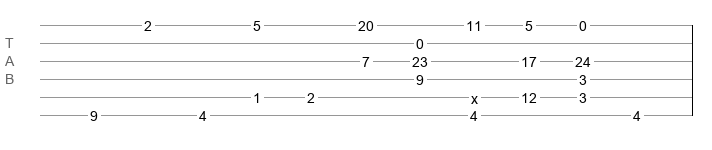0: (416, 36, 424, 46), (579, 18, 587, 28)
1: (253, 90, 261, 100)
11: (466, 18, 482, 28)
12: (521, 90, 537, 100)
17: (521, 54, 537, 64)
2: (144, 18, 152, 28), (307, 90, 315, 100)
20: (358, 18, 374, 28)
23: (412, 54, 428, 64)
24: (575, 54, 591, 64)
3: (579, 72, 587, 82), (579, 90, 587, 100)
4: (199, 108, 207, 118), (470, 108, 478, 118), (633, 108, 641, 118)
5: (253, 18, 261, 28), (525, 18, 533, 28)
7: (362, 54, 370, 64)
9: (90, 108, 98, 118), (416, 72, 424, 82)
x: (471, 91, 478, 99)
